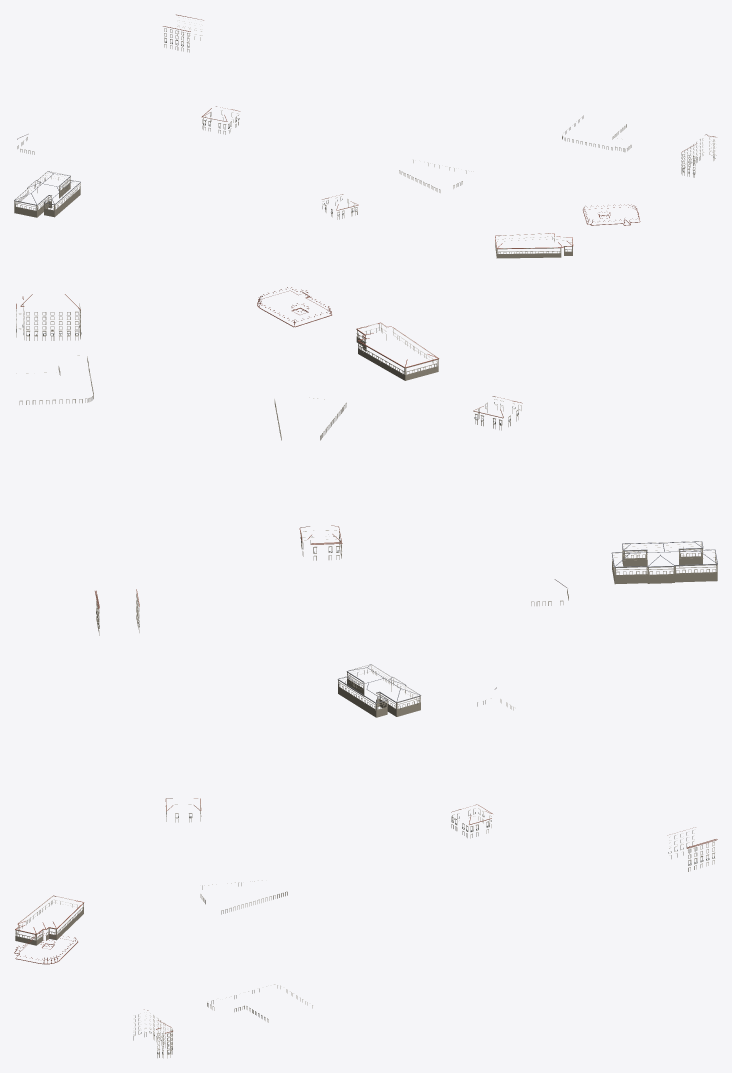
The picture shows the model from 3 angles, top to bottom: view 1: azimuth 30°, elevation 25°; view 2: azimuth 150°, elevation 25°; view 3: azimuth 270°, elevation 25°; orthographic projection. The views are drawn at different scales.
Parts seen in each view (by area): view 1: detail; view 2: detail; view 3: detail.
Boxes of the visible parts, bbox=[...] form: detail: bbox=[14, 14, 716, 258]; detail: bbox=[16, 287, 717, 635]; detail: bbox=[14, 664, 717, 1058].
Size of the model in its own units: 477 by 40.63 by 411.
